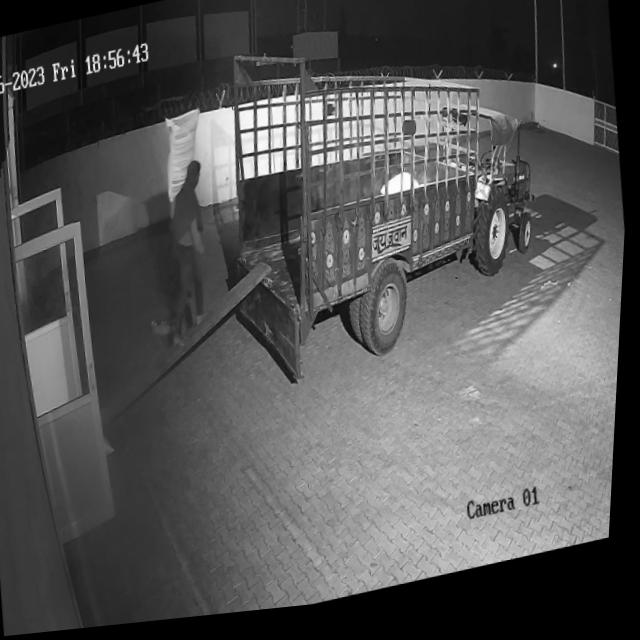sack: (160, 112, 211, 206)
